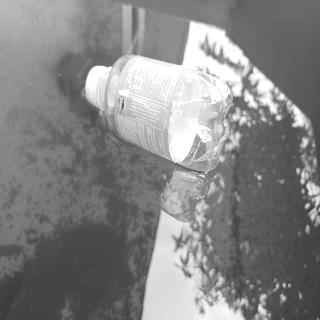bottle: (84, 51, 232, 172)
